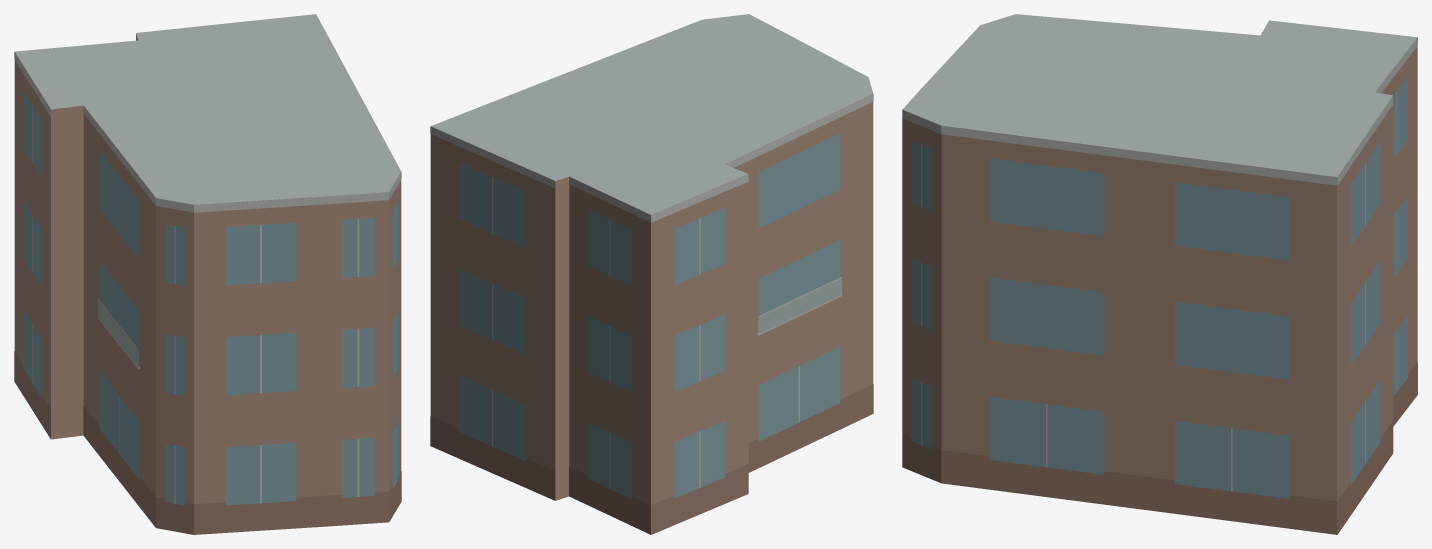
Rendered from survey-upis-32498174.glb.
The picture shows the model from 3 angles, left to right: view 1: azimuth 30°, elevation 25°; view 2: azimuth 150°, elevation 25°; view 3: azimuth 270°, elevation 25°; orthographic projection. The views are drawn at different scales.
Visible parts, largest first — view 1: survey-upis-32498174.tmp; view 2: survey-upis-32498174.tmp; view 3: survey-upis-32498174.tmp.
Boxes of the visible parts, x1,y1,x2,y2 form: survey-upis-32498174.tmp: (14, 14, 401, 534); survey-upis-32498174.tmp: (430, 14, 873, 534); survey-upis-32498174.tmp: (902, 14, 1417, 534).
Bounding box in the file's own units: 9.97 × 10.18 × 13.31.
